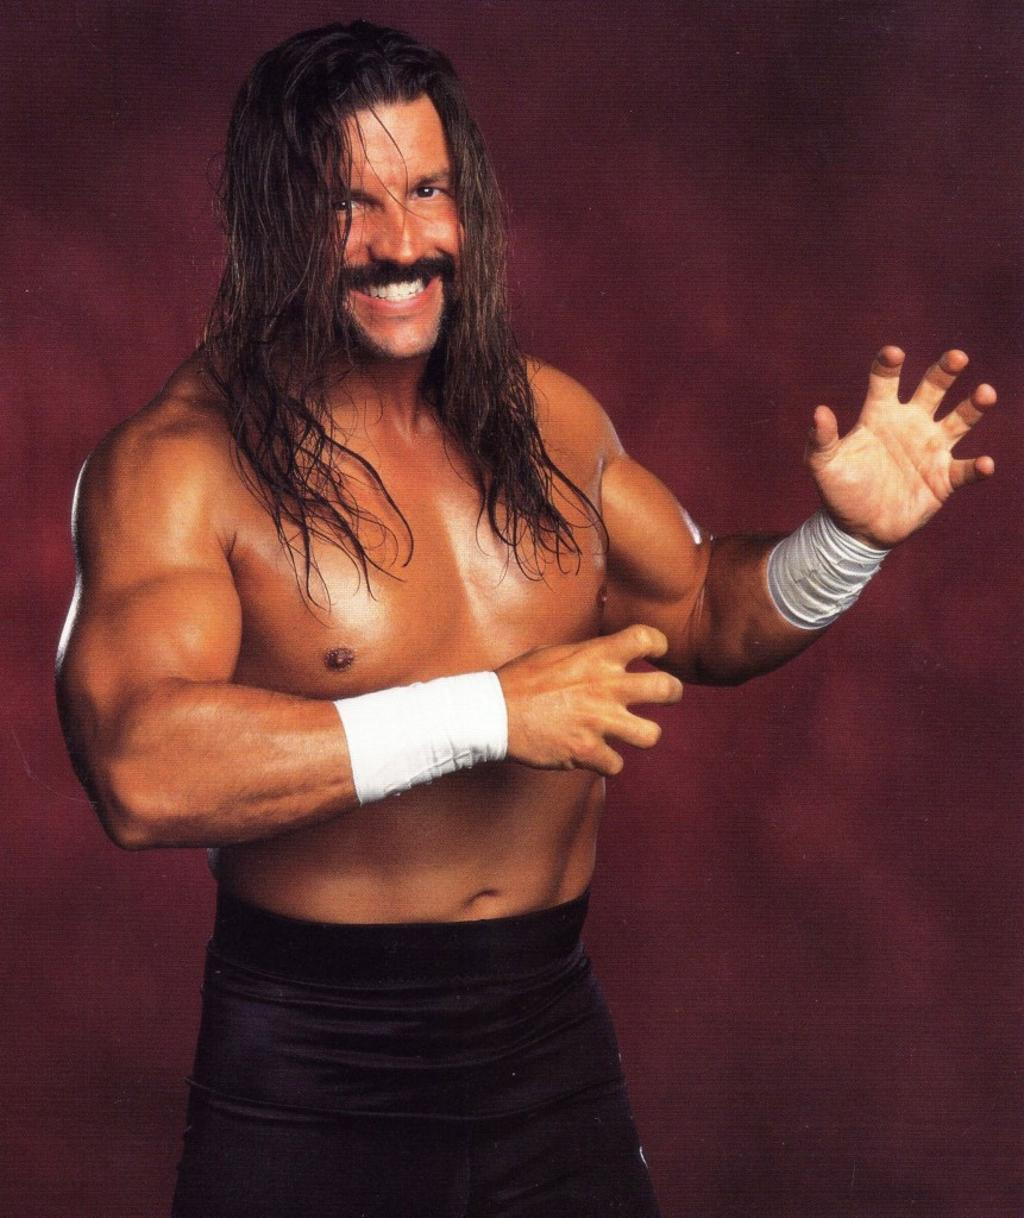face: (304, 112, 477, 361)
